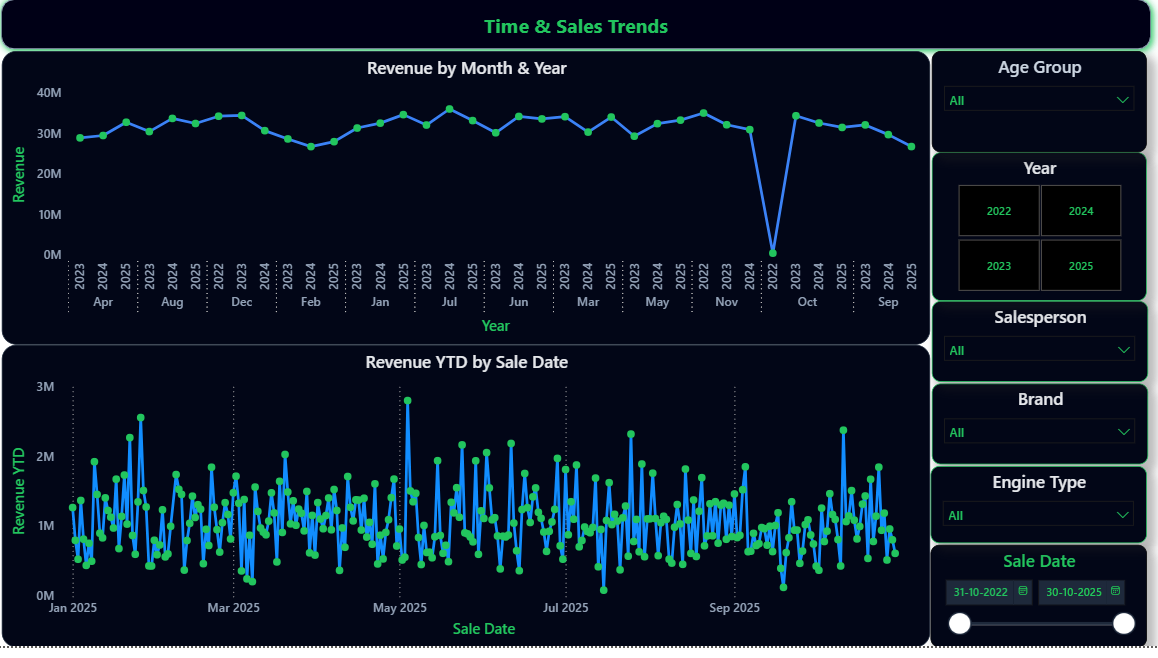

The dashboard page shown, as its layout file describes it:
{"tool":"powerbi","page":{"name":"Page 4","canvas":[1280,720],"ordinal":3},"visuals":[{"type":"shape","box":[0,0,1280,72.9],"z":0},{"type":"slicer","title":"Sale Date","fields":{"Values":["dim_date.sale_date"]},"box":[1029.2,607.9,237.4,112.5],"z":1000},{"type":"slicer","title":"Brand","fields":{"Values":["dim_cars.brand"]},"box":[1030.5,430.9,237.4,89.2],"z":2000},{"type":"slicer","title":"Salesperson","fields":{"Values":["fact_sales.salesperson"]},"box":[1030.5,340.3,237.4,89.2],"z":3000},{"type":"slicer","title":"Engine Type","fields":{"Values":["dim_cars.engine_type"]},"box":[1029.2,521.4,237.4,85.1],"z":4000},{"type":"lineChart","title":"Revenue by Month & Year","fields":{"Y":["fact_sales.Total Revenue"],"Category":["fact_sales.Month","fact_sales.Year"]},"box":[9.6,65.9,1019.6,322.5],"z":5000},{"type":"lineChart","title":"Revenue YTD by Sale Date","fields":{"Y":["fact_sales.Revenue YTD"],"Category":["fact_sales.sale_date"]},"box":[9.6,388.3,1019.6,332.1],"z":6000},{"type":"slicer","title":"Year","fields":{"Values":["dim_date.year"]},"box":[1030.5,177,236,163.3],"z":6001},{"type":"slicer","title":"Age Group","fields":{"Values":["dim_customers.Age Group"]},"box":[1030.5,65.9,236,111.1],"z":6002}]}

Visuals, with their boxes in screenshot pixels (x1, y1, x2, y2), scaled from the page's 1280x720 canvas onto the 1158x658 screenshot:
shape: x1=0 y1=0 x2=1157 y2=67
"Sale Date" slicer: x1=931 y1=556 x2=1146 y2=657
"Brand" slicer: x1=932 y1=394 x2=1147 y2=475
"Salesperson" slicer: x1=932 y1=311 x2=1147 y2=393
"Engine Type" slicer: x1=931 y1=477 x2=1146 y2=554
"Revenue by Month & Year" lineChart: x1=9 y1=60 x2=931 y2=355
"Revenue YTD by Sale Date" lineChart: x1=9 y1=355 x2=931 y2=657
"Year" slicer: x1=932 y1=162 x2=1146 y2=311
"Age Group" slicer: x1=932 y1=60 x2=1146 y2=162
